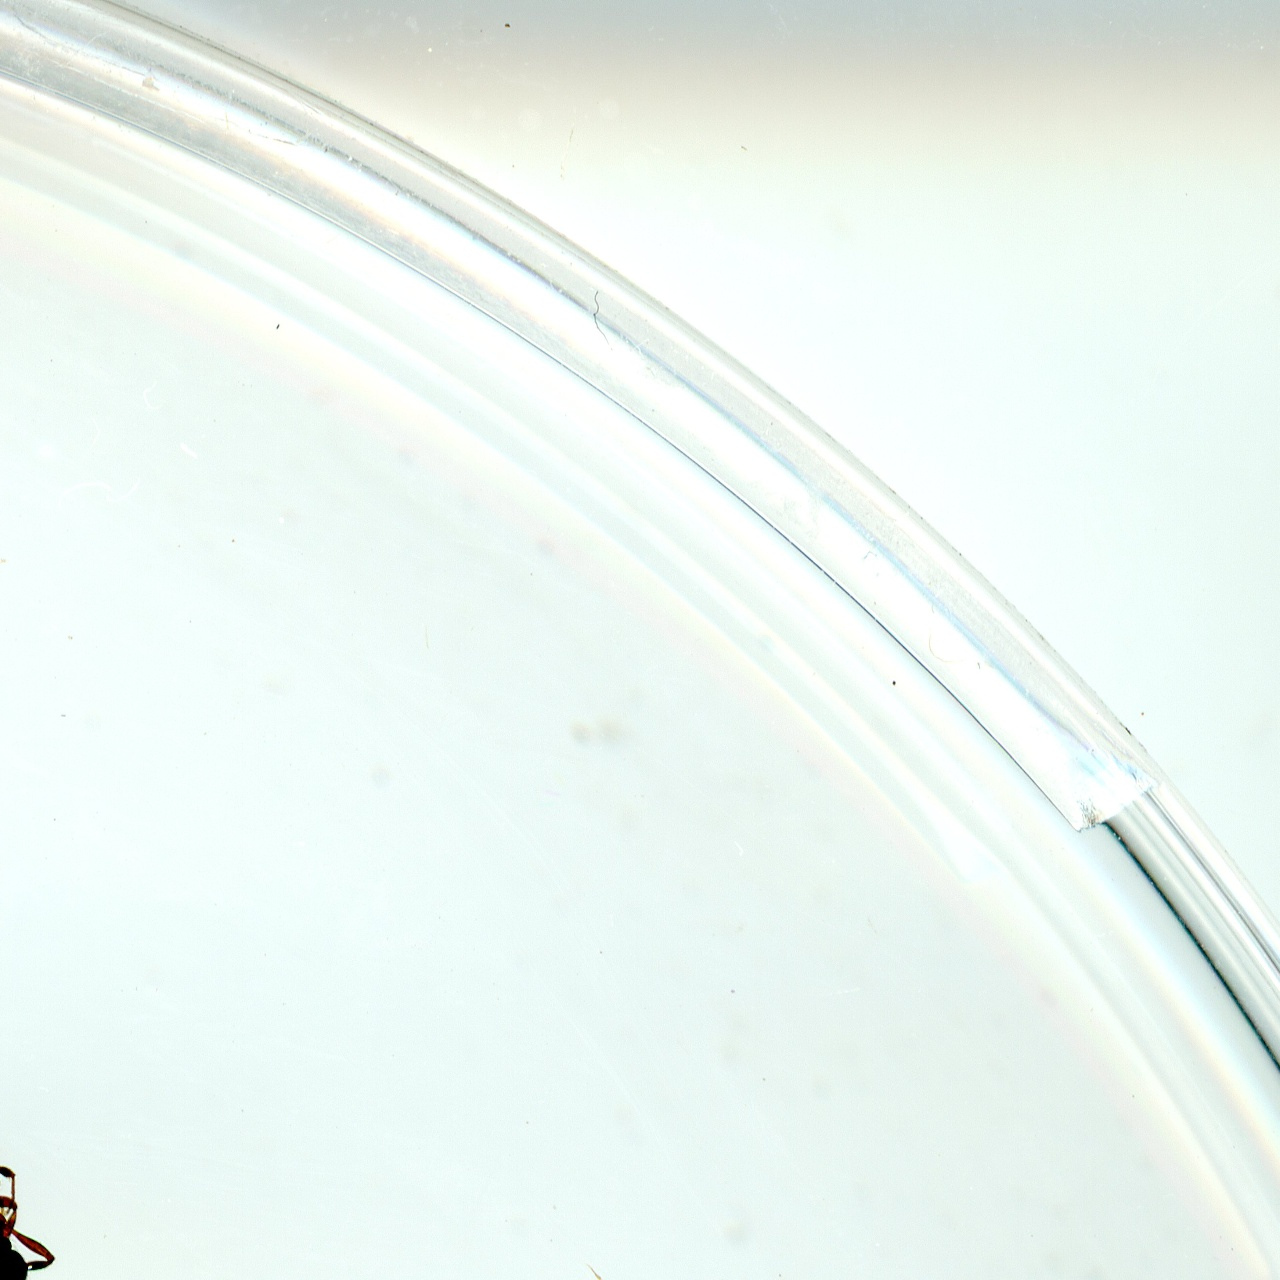arthropod: (0, 1097, 68, 1280)
